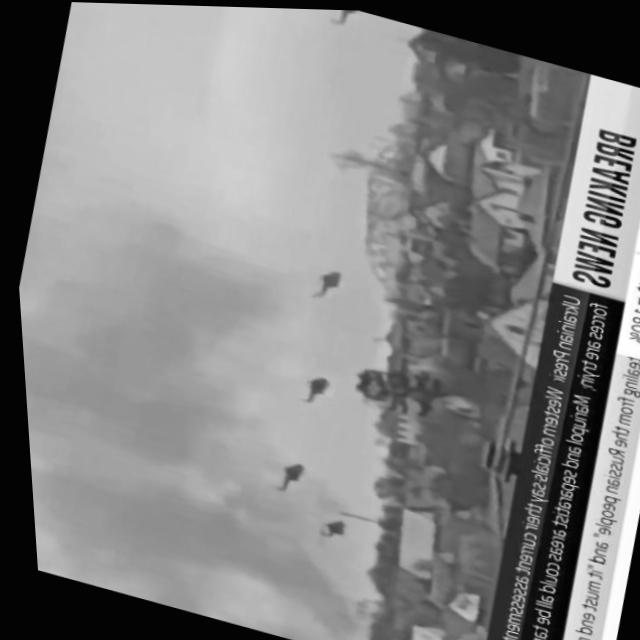helikopter: (262, 351, 361, 428), (234, 437, 329, 514), (283, 248, 356, 313)
